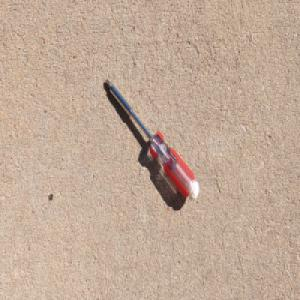Screwdriver: (104, 77, 200, 202)
